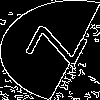Z: (24, 25, 100, 69)
